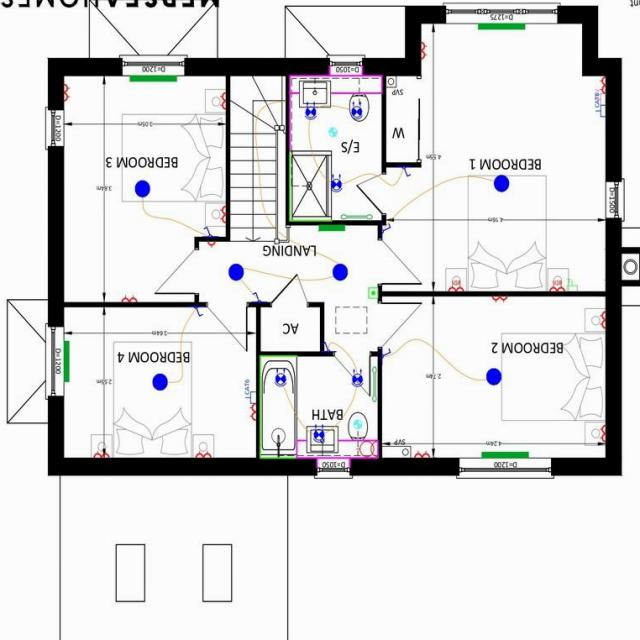Cat 6 Data Socket: (239, 382, 257, 408), (591, 105, 605, 123)
Ceiling Mounted Continuous Extract Fan With Boost Mode Activated By Light Switch: (347, 415, 369, 433), (324, 125, 340, 145)
Co-Ax TV Socket: (589, 92, 607, 107)
Double Socket: (203, 86, 225, 118), (591, 302, 606, 344), (59, 82, 83, 108), (403, 444, 438, 461), (589, 415, 608, 446), (416, 36, 433, 66), (444, 276, 471, 293), (114, 292, 146, 306), (192, 442, 214, 460), (213, 196, 226, 226), (89, 449, 114, 463), (484, 295, 512, 307), (590, 78, 606, 96), (245, 407, 257, 430)
Full Height Tiling: (255, 351, 301, 464), (288, 147, 328, 228)
Light Switch: (192, 218, 215, 238), (380, 340, 394, 364), (188, 309, 206, 326), (396, 166, 414, 183), (249, 292, 273, 304), (380, 220, 393, 242)
Low Energy Downlighter: (347, 360, 365, 394), (328, 168, 348, 197), (347, 95, 365, 127), (270, 361, 289, 390), (299, 101, 325, 122), (308, 421, 328, 445)
Low Energy Pendant Light: (322, 261, 361, 290), (140, 369, 176, 396), (125, 178, 164, 202), (475, 365, 509, 392), (218, 258, 247, 286), (492, 173, 515, 198)
Programmable Room Thermostat: (363, 279, 379, 304)
Radiator: (469, 20, 536, 38), (117, 75, 184, 89), (473, 448, 548, 458), (60, 338, 74, 386), (313, 223, 351, 236)
Shaver Socket: (349, 437, 378, 460)
Single Socket: (200, 241, 223, 252)
USB Double Socket: (544, 277, 564, 294), (564, 275, 581, 294)
